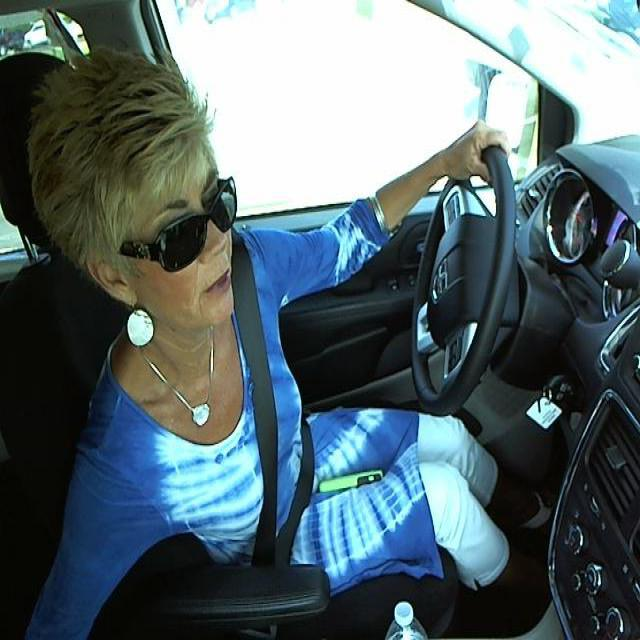seatbelt: (234, 314, 324, 558)
